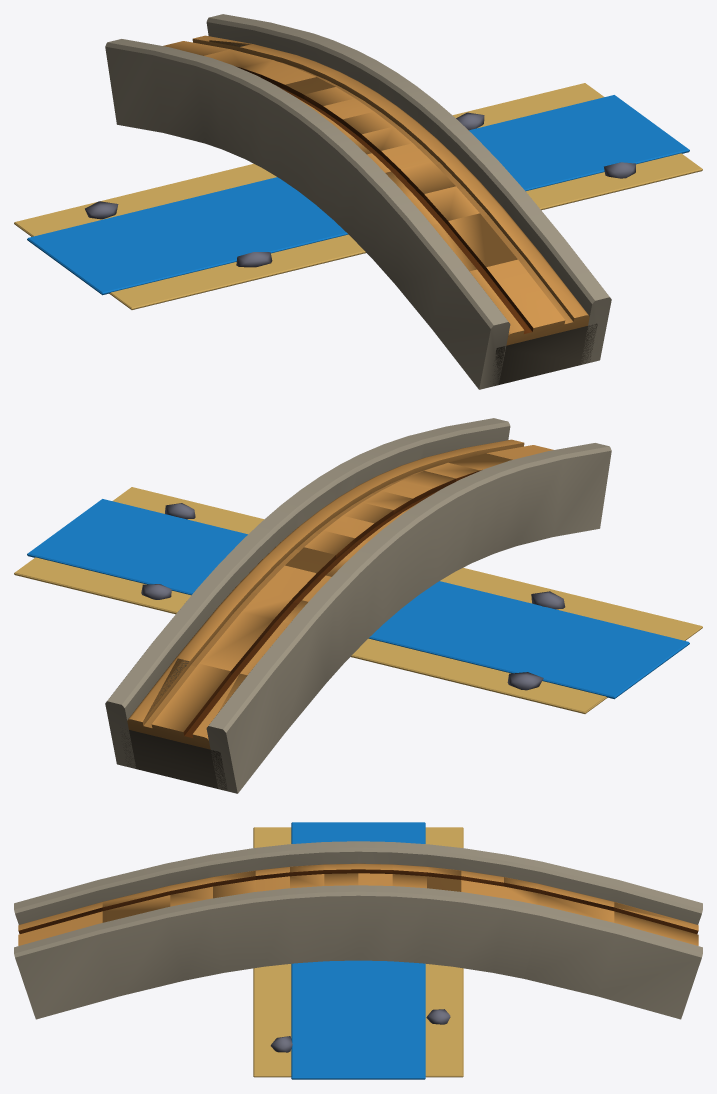
Rendered from StoneBridge.fbx.
The picture shows the model from 3 angles, top to bottom: view 1: azimuth 30°, elevation 25°; view 2: azimuth 150°, elevation 25°; view 3: azimuth 270°, elevation 25°; orthographic projection. The views are drawn at different scales.
Visible parts, largest first — view 1: StoneBridge; view 2: StoneBridge; view 3: StoneBridge.
Boxes of the visible parts, x1,y1,x2,y2 form: StoneBridge: (14, 14, 702, 389); StoneBridge: (14, 418, 702, 793); StoneBridge: (14, 822, 702, 1079).
Size of the model in its own units: 7.2 by 1.67 by 8.2.
